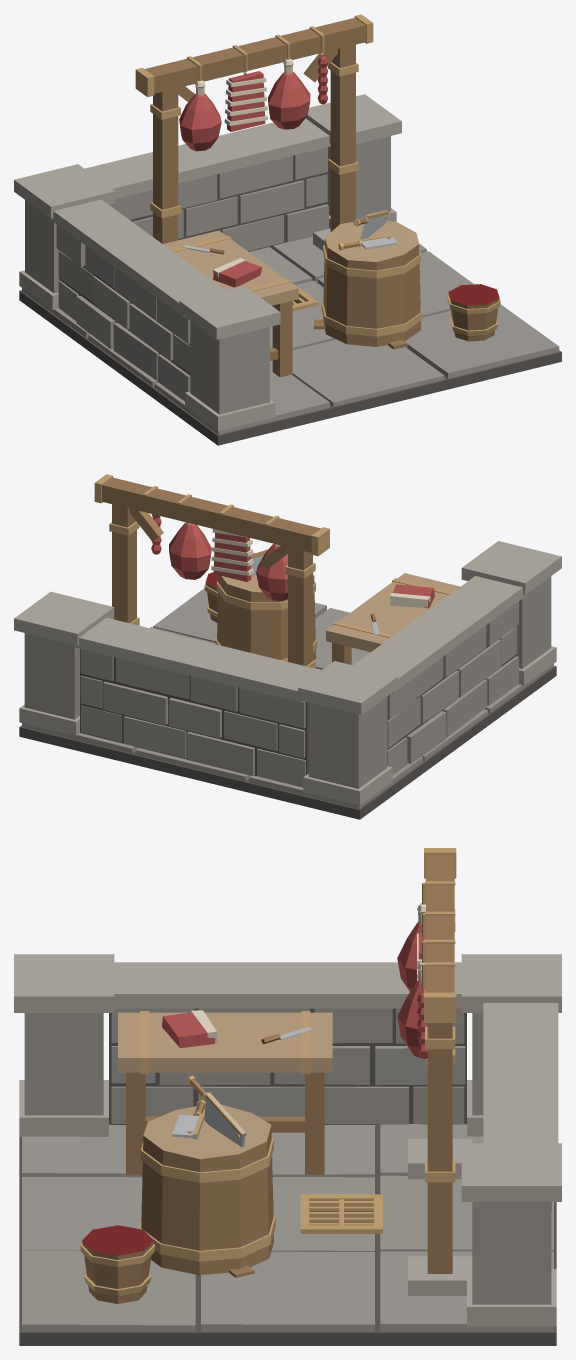
The model's file is butcher.glb.
3 renders of one model, top to bottom at view 1: azimuth 30°, elevation 25°; view 2: azimuth 150°, elevation 25°; view 3: azimuth 270°, elevation 25°, orthographic. The views are drawn at different scales.
Parts seen in each view (by area): view 1: floor, wall_back, wall_left, pillar_front_left, chopping_block, rack_frame, rack_crossbar, pillar_back_left, pillar_back_right, work_table, bucket, meat_ribs (+5 smaller); view 2: wall_back, wall_left, floor, pillar_back_left, pillar_back_right, rack_crossbar, pillar_front_left, rack_frame, chopping_block, work_table, meat_ham_2, meat_ribs (+4 smaller); view 3: floor, wall_left, pillar_back_right, pillar_front_left, chopping_block, work_table, wall_back, rack_frame, pillar_back_left, rack_crossbar, bucket, drain_grate (+7 smaller).
Boxes of the visible parts, bbox=[...] form: floor: bbox=[19, 236, 561, 445]; wall_back: bbox=[85, 118, 330, 251]; wall_left: bbox=[51, 199, 224, 401]; pillar_front_left: bbox=[179, 285, 280, 431]; chopping_block: bbox=[323, 221, 421, 346]; rack_frame: bbox=[150, 44, 358, 250]; rack_crossbar: bbox=[135, 14, 373, 102]; pillar_back_left: bbox=[14, 164, 115, 309]; pillar_back_right: bbox=[306, 94, 401, 228]; work_table: bbox=[163, 230, 298, 377]; bucket: bbox=[447, 284, 500, 341]; meat_ribs: bbox=[224, 71, 267, 131]; wall_back: bbox=[75, 617, 321, 787]; wall_left: bbox=[353, 576, 524, 774]; floor: bbox=[19, 588, 556, 819]; pillar_back_left: bbox=[298, 661, 397, 805]; pillar_back_right: bbox=[14, 591, 114, 735]; rack_crossbar: bbox=[94, 474, 329, 569]; pillar_front_left: bbox=[461, 541, 561, 685]; rack_frame: bbox=[109, 504, 315, 668]; chopping_block: bbox=[217, 553, 316, 660]; work_table: bbox=[326, 573, 459, 664]; meat_ham_2: bbox=[169, 522, 211, 579]; meat_ribs: bbox=[211, 529, 253, 582]; floor: bbox=[19, 1124, 556, 1345]; wall_left: bbox=[109, 962, 466, 1124]; pillar_back_right: bbox=[461, 1143, 561, 1326]; pillar_front_left: bbox=[14, 954, 114, 1137]; chopping_block: bbox=[141, 1104, 273, 1275]; work_table: bbox=[118, 1011, 332, 1174]; wall_back: bbox=[483, 1003, 558, 1211]; rack_frame: bbox=[408, 909, 472, 1295]; pillar_back_left: bbox=[461, 954, 561, 1136]; rack_crossbar: bbox=[424, 848, 456, 1022]; bucket: bbox=[80, 1225, 155, 1303]; drain_grate: bbox=[300, 1194, 382, 1233].
Size of what is drawn, in the model's own units: 3.06 by 1.99 by 3.06.
